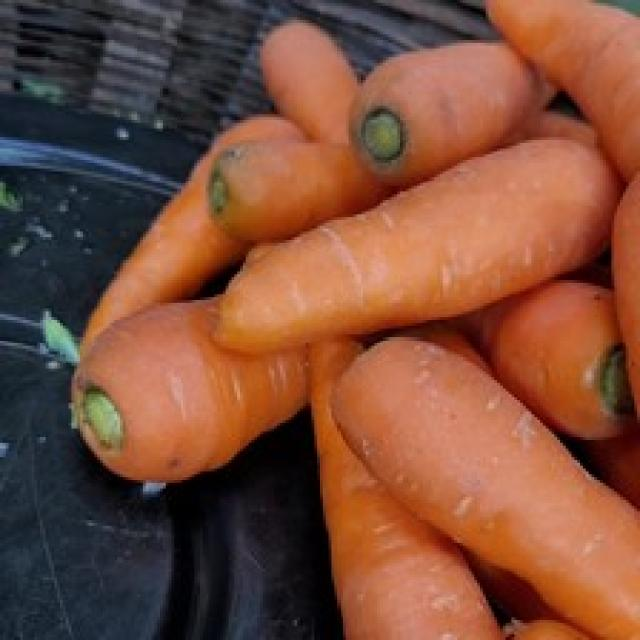Fresh_Carrot: (214, 148, 588, 330), (398, 333, 640, 573)
